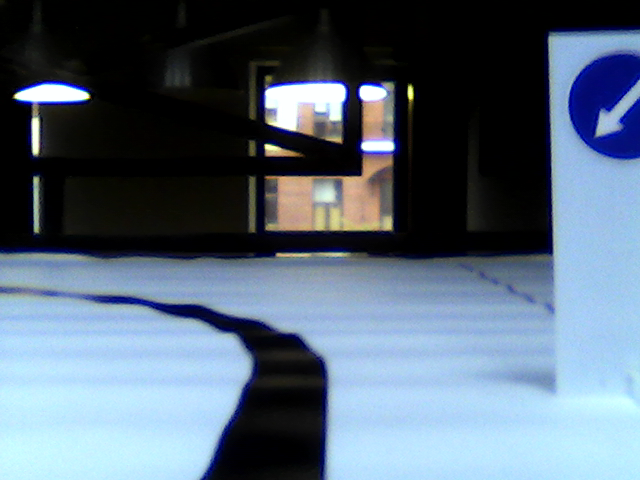prep: (569, 50, 640, 164)
